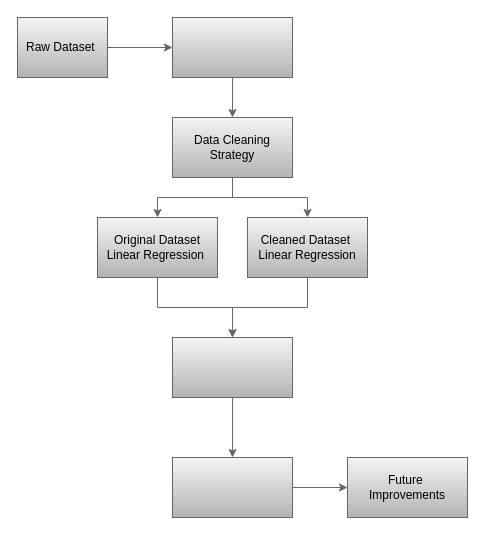
Image size: 485x535. Some labels were removed from this diagram. The shapes that lost their labels are listed below. From the top down, each one's centre as x and y in pixels, then its label:
At point 232,47: "Exploratory Data Analysis & Visualization".
At point 232,367: "Model Comparison".
At point 232,487: "Conclusions".
